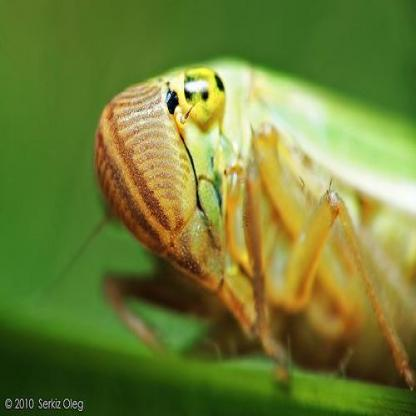Green-Leafhopper: (89, 53, 416, 390)
